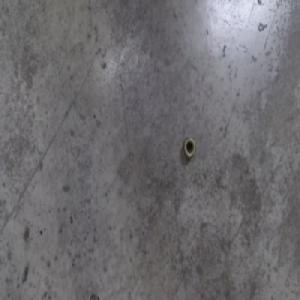Nut: (183, 136, 196, 160)
